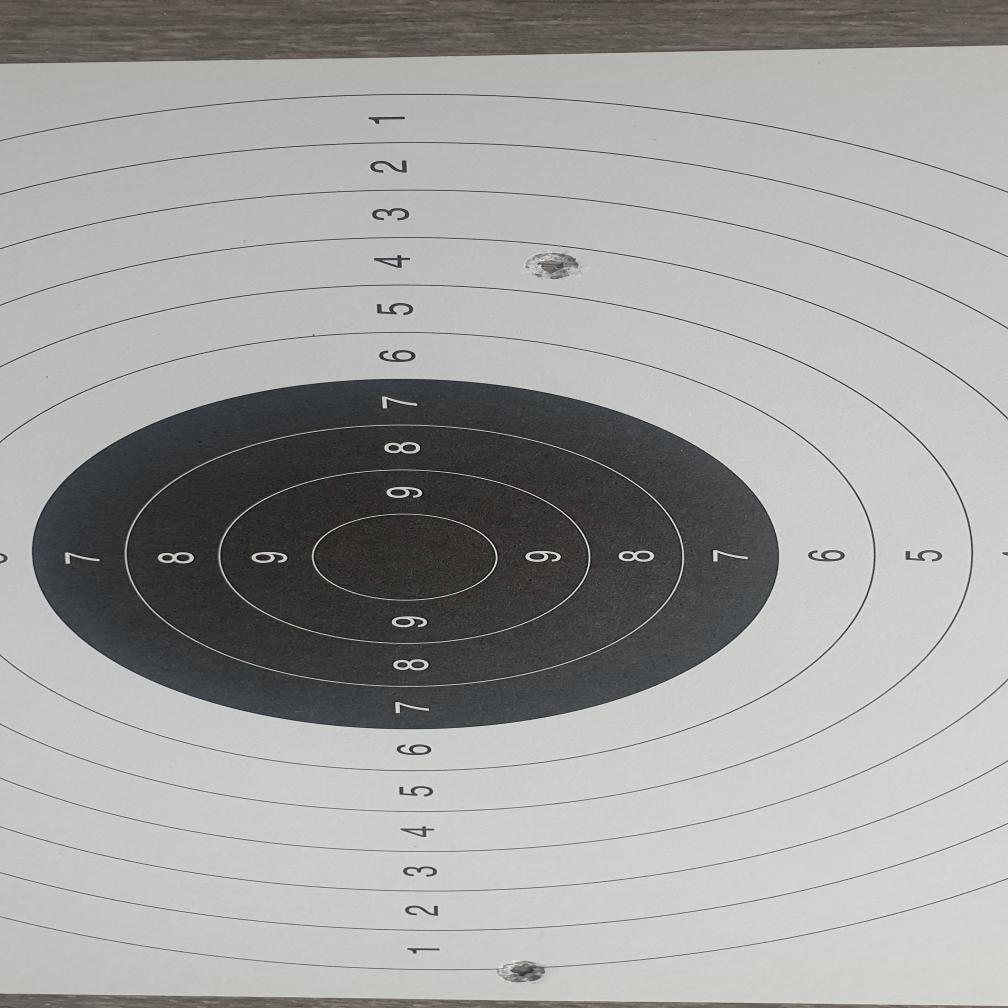1: (495, 959, 550, 984)
4: (522, 251, 585, 281)
Target: (0, 92, 1008, 970)
black_contour: (31, 376, 779, 732)
